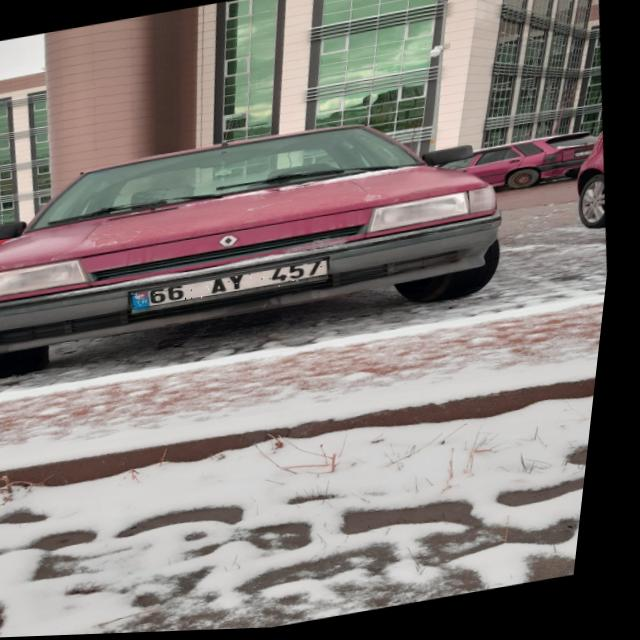license_plate: (136, 263, 338, 314)
